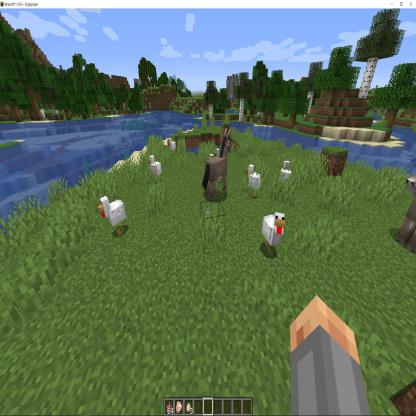minecraft-pigs: (189, 149, 246, 262)
